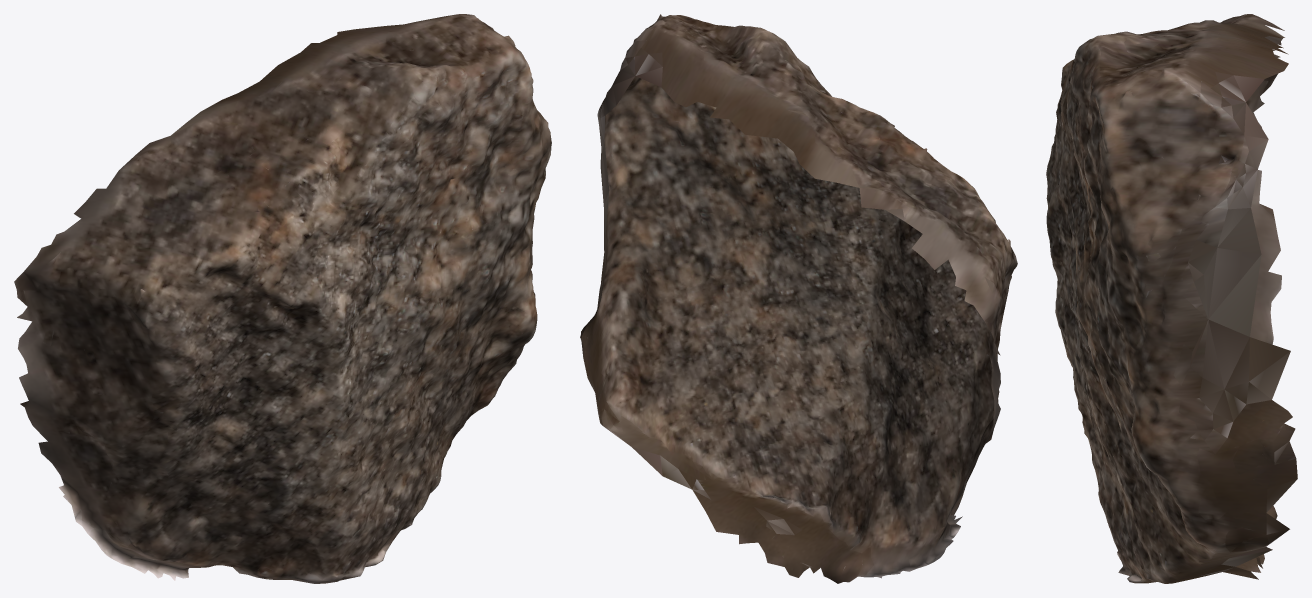
The model's file is Rock_Textured_mesh_1.obj.
3 renders of one model, left to right at view 1: azimuth 30°, elevation 25°; view 2: azimuth 150°, elevation 25°; view 3: azimuth 270°, elevation 25°, orthographic. The views are drawn at different scales.
Parts seen in each view (by area): view 1: Group_Global; view 2: Group_Global; view 3: Group_Global.
Part boxes in pixels (x1=…): Group_Global: x1=14, y1=14, x2=551, y2=583; Group_Global: x1=580, y1=14, x2=1017, y2=583; Group_Global: x1=1046, y1=14, x2=1297, y2=583.
Size of the model in its own units: 31.16 by 32.72 by 12.53.
Materials: 1 (1 with a texture image).
